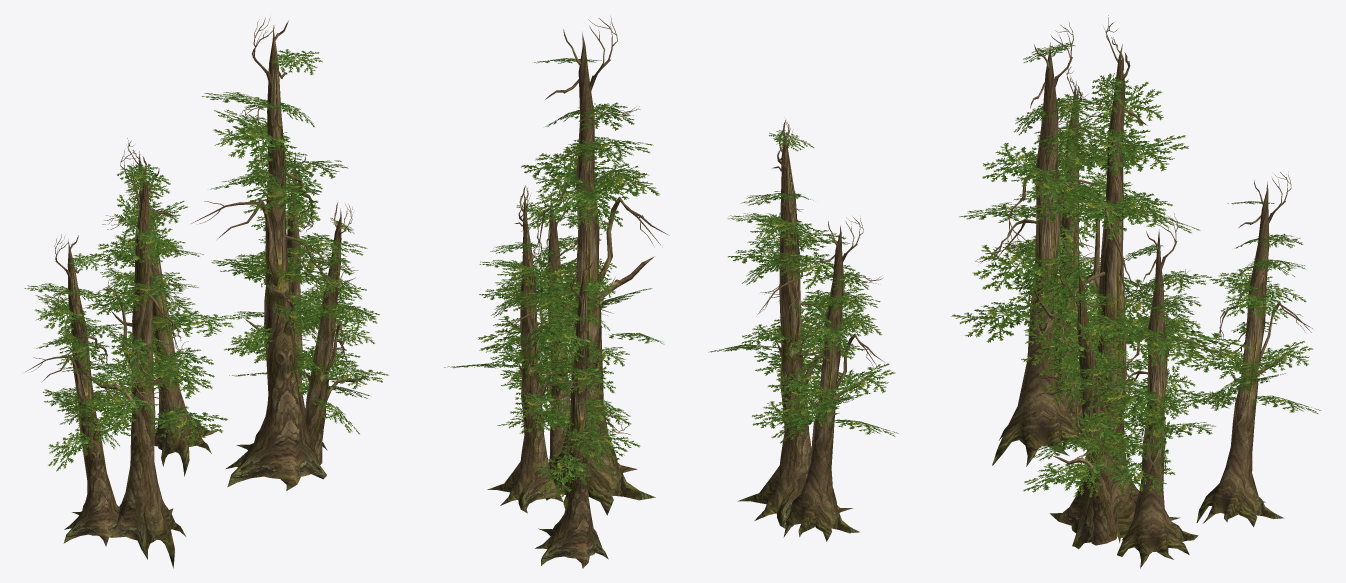
Rendered from S_Tree_Green032.FBX.
The picture shows the model from 3 angles, left to right: view 1: azimuth 30°, elevation 25°; view 2: azimuth 150°, elevation 25°; view 3: azimuth 270°, elevation 25°; orthographic projection. The views are drawn at different scales.
Visible parts, largest first — view 1: S_Tree_Green032; view 2: S_Tree_Green032; view 3: S_Tree_Green032.
Part boxes in pixels (<box>): S_Tree_Green032: <box>24,17,388,568</box>; S_Tree_Green032: <box>444,16,898,568</box>; S_Tree_Green032: <box>951,15,1321,568</box>.
Size of the model in its own units: 1838 by 1440 by 2131.
